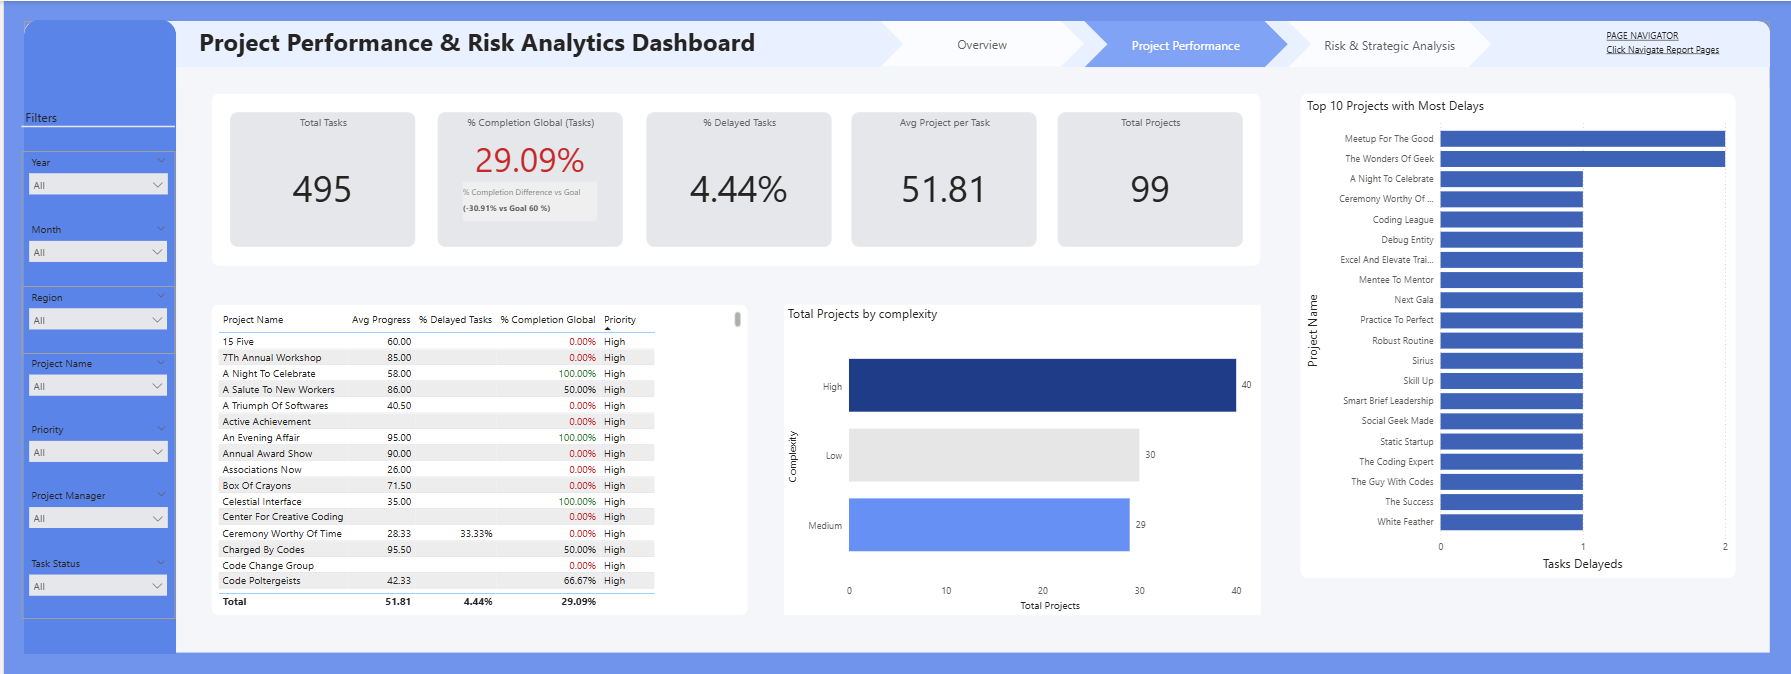

The page's visual inventory and layout, read from the dashboard file:
{"tool":"powerbi","page":{"name":"Project Performance","canvas":[2350,885],"ordinal":1},"visuals":[{"type":"group","id":"g1","title":"Group 1","box":[27.1,26.7,2295,830],"z":0},{"type":"shape","box":[27.4,26.7,2294.4,830],"z":0,"group":"g1"},{"type":"textbox","box":[23.3,137,125,32.8],"z":0,"group":"g2"},{"type":"shape","box":[27.1,26.7,2295,60.9],"z":1000,"group":"g1"},{"type":"actionButton","title":"Overview","box":[1152,27,268,60],"z":1000},{"type":"shape","box":[23.3,158.7,201.7,14.4],"z":1000,"group":"g2"},{"type":"actionButton","title":"Overview","box":[1420,27,268,61],"z":2000},{"type":"textbox","box":[2101.8,31,195,51],"z":2000,"group":"g1"},{"type":"actionButton","title":"Overview","box":[1688,27,268,61],"z":3000},{"type":"textbox","box":[252,27,824,60],"z":4000},{"type":"shape","box":[26,24,200,834],"z":5000},{"type":"group","id":"g2","title":"Group 3","box":[23.3,137,201.7,36.1],"z":6000},{"type":"group","id":"g3","title":"Group 4","box":[23.3,197.1,201.7,615],"z":7000},{"type":"tableEx","fields":{"Values":["dim_project.project_name","Measures_DAX.Avg Progress","Measures_DAX.% Delayed Tasks","Measures_DAX.% Completion Global","dim_priority.priority"]},"box":[273.3,400,705,408.3],"z":8000},{"type":"barChart","title":"Top 10 Projects with Most Delays","fields":{"Category":["dim_project.project_name"],"Y":["Measures_DAX.Count task Delayed"]},"box":[1703.3,121.7,571.7,636.7],"z":9000},{"type":"group","id":"g4","title":"Group 2","box":[273.1,121.3,1378.9,226.7],"z":10000},{"type":"shape","box":[273.1,121.3,1378.9,226.7],"z":10000,"group":"g4"},{"type":"barChart","fields":{"Category":["dim_project.complexity"],"Y":["Measures_DAX.Total Projects"]},"box":[1025,400,626.7,408.3],"z":11000},{"type":"slicer","fields":{"Values":["dim_date.year"]},"box":[23.3,197.1,201.7,90],"z":12000,"group":"g3"},{"type":"cardVisual","title":"% Completion Global (Tasks)","fields":{"Data":["Measures_DAX.% Completion Global"]},"box":[569.8,145.7,243.3,176.7],"z":13000,"group":"g4"},{"type":"slicer","fields":{"Values":["dim_date.month_name"]},"box":[23.9,286.5,201.1,88.3],"z":13000,"group":"g3"},{"type":"cardVisual","title":"Total Tasks","fields":{"Data":["Measures_DAX.Total Tasks"]},"box":[298.1,145.7,243.3,176.7],"z":14000,"group":"g4"},{"type":"slicer","fields":{"Values":["dim_project.project_name"]},"box":[23.9,461.5,201.1,87.8],"z":14000,"group":"g3"},{"type":"cardVisual","title":"% Delayed Tasks","fields":{"Data":["Measures_DAX.% Delayed Tasks"]},"box":[844.8,145.7,243.3,176.7],"z":15000,"group":"g4"},{"type":"slicer","fields":{"Values":["dim_priority.priority"]},"box":[23.3,548.8,201.7,87.2],"z":15000,"group":"g3"},{"type":"cardVisual","title":"Avg Project per Task","fields":{"Data":["Measures_DAX.Avg Progress"]},"box":[1114.8,145.7,243.3,176.7],"z":16000,"group":"g4"},{"type":"slicer","fields":{"Values":["dim_project.project_manager"]},"box":[23.3,636,201.7,88.9],"z":16000,"group":"g3"},{"type":"cardVisual","title":"Total Projects","fields":{"Data":["Measures_DAX.Total Projects"]},"box":[1384.8,145.7,243.3,176.7],"z":17000,"group":"g4"},{"type":"slicer","fields":{"Values":["dim_project.region"]},"box":[23.9,373.8,201.1,88.9],"z":17000,"group":"g3"},{"type":"slicer","fields":{"Values":["dim_status.task_status"]},"box":[23.9,724.9,201.1,87.2],"z":18000,"group":"g3"}]}

Visuals, with their boxes in screenshot pixels (x1, y1, x2, y2), scaled from the page's 2350x885 canvas onto the 1791x674 screenshot:
"Group 1" group: bbox(21, 20, 1770, 652)
shape: bbox(21, 20, 1770, 652)
textbox: bbox(18, 104, 113, 129)
shape: bbox(21, 20, 1770, 67)
"Overview" actionButton: bbox(878, 21, 1082, 66)
shape: bbox(18, 121, 171, 132)
"Overview" actionButton: bbox(1082, 21, 1286, 67)
textbox: bbox(1602, 24, 1750, 62)
"Overview" actionButton: bbox(1286, 21, 1491, 67)
textbox: bbox(192, 21, 820, 66)
shape: bbox(20, 18, 172, 653)
"Group 3" group: bbox(18, 104, 171, 132)
"Group 4" group: bbox(18, 150, 171, 618)
tableEx - dim_project.project_name x Measures_DAX.Avg Progress: bbox(208, 305, 746, 616)
"Top 10 Projects with Most Delays" barChart: bbox(1298, 93, 1734, 578)
"Group 2" group: bbox(208, 92, 1259, 265)
shape: bbox(208, 92, 1259, 265)
barChart - dim_project.complexity x Measures_DAX.Total Projects: bbox(781, 305, 1259, 616)
slicer - dim_date.year: bbox(18, 150, 171, 219)
"% Completion Global (Tasks)" cardVisual: bbox(434, 111, 620, 246)
slicer - dim_date.month_name: bbox(18, 218, 171, 285)
"Total Tasks" cardVisual: bbox(227, 111, 413, 246)
slicer - dim_project.project_name: bbox(18, 351, 171, 418)
"% Delayed Tasks" cardVisual: bbox(644, 111, 829, 246)
slicer - dim_priority.priority: bbox(18, 418, 171, 484)
"Avg Project per Task" cardVisual: bbox(850, 111, 1035, 246)
slicer - dim_project.project_manager: bbox(18, 484, 171, 552)
"Total Projects" cardVisual: bbox(1055, 111, 1241, 246)
slicer - dim_project.region: bbox(18, 285, 171, 352)
slicer - dim_status.task_status: bbox(18, 552, 171, 618)
